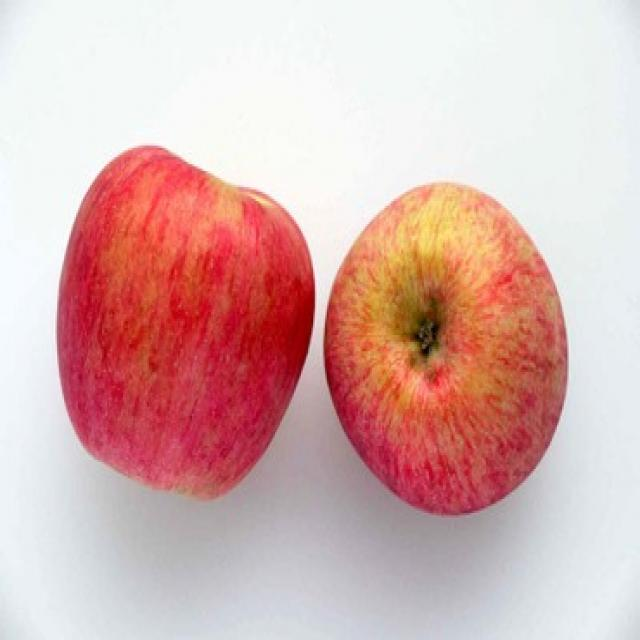Apple: (50, 138, 313, 502), (324, 185, 575, 520)
